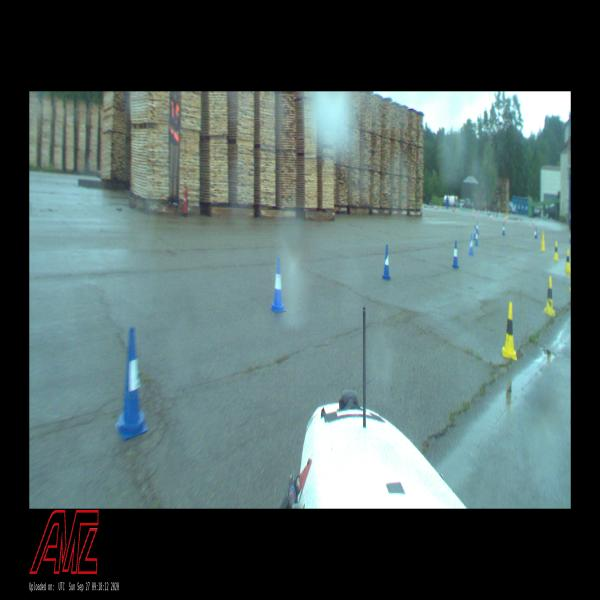blue_cone: (115, 327, 148, 440), (270, 258, 286, 313), (381, 244, 391, 280), (452, 241, 459, 268), (469, 234, 474, 256), (534, 226, 538, 239), (475, 230, 478, 247), (502, 224, 505, 234)
yellow_cone: (502, 302, 517, 360), (543, 276, 555, 316), (564, 248, 570, 274), (553, 240, 559, 262), (542, 236, 546, 251)
